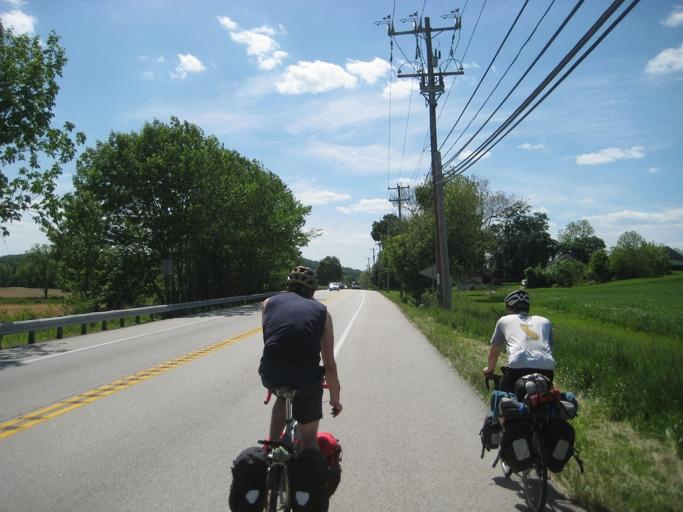non-vehicle: (255, 383, 341, 510), (482, 369, 548, 511)
